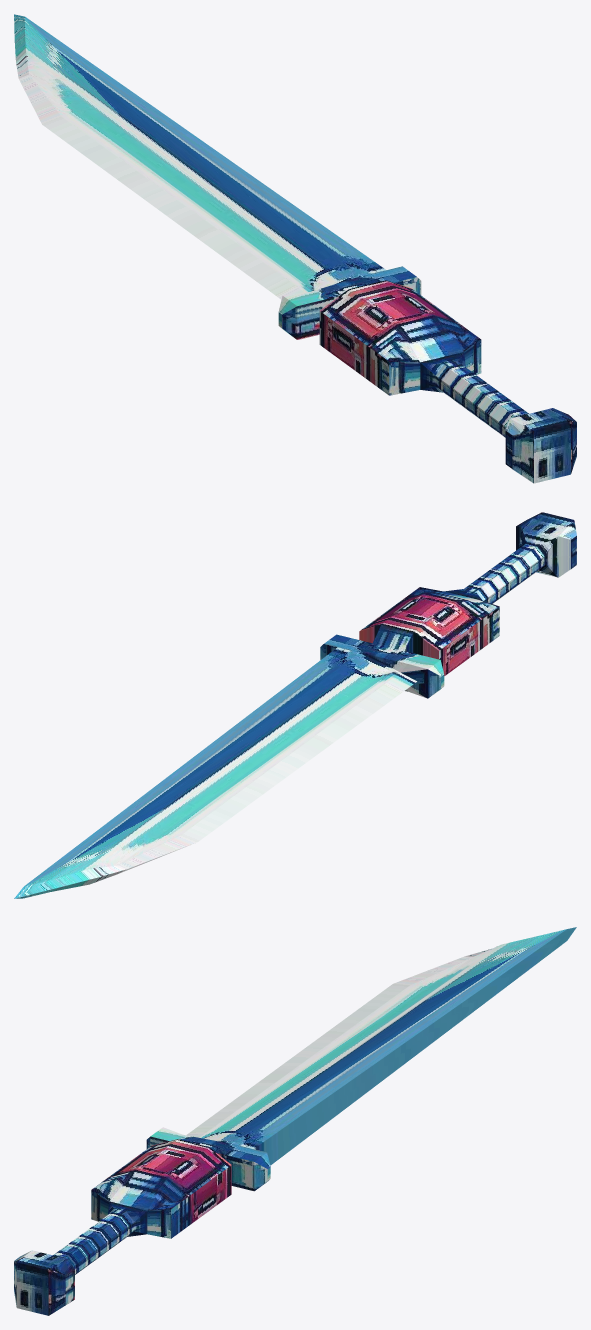
Rendered from BusterSword.glb.
3 views of the same model, one above another, from view 1: azimuth 30°, elevation 25°; view 2: azimuth 150°, elevation 25°; view 3: azimuth 330°, elevation 25° (orthographic). The views are drawn at different scales.
Parts seen in each view (by area): view 1: OIG3 (19); view 2: OIG3 (19); view 3: OIG3 (19).
Part boxes in pixels (x1,y1,x2,y2): OIG3 (19): (14,14,576,483); OIG3 (19): (14,512,576,898); OIG3 (19): (14,927,576,1315).
Bounding box in the file's own units: 0.1388 × 0.062 × 1.01.
1 material, 1 textured.
